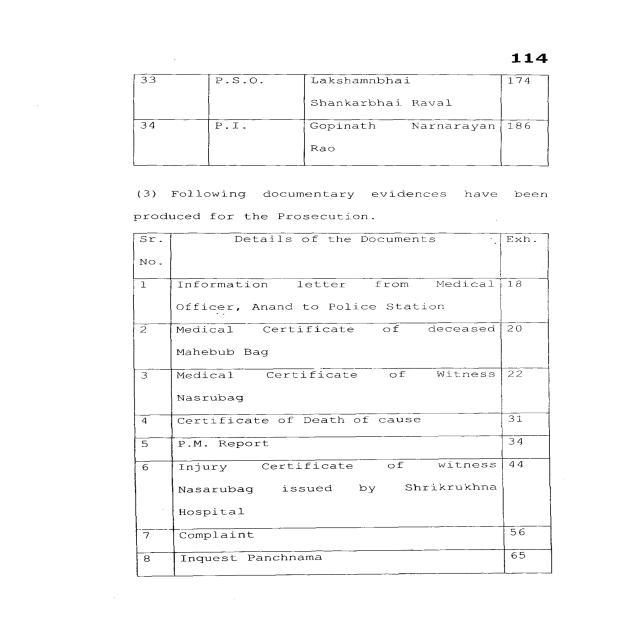page-number: (423, 4, 636, 70)
